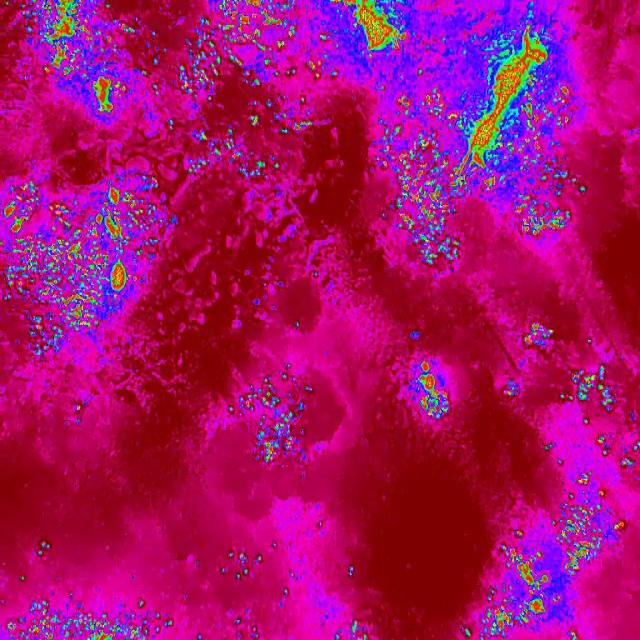fire: (159, 1, 586, 270), (0, 157, 170, 364), (470, 467, 629, 640), (11, 0, 142, 134), (492, 359, 640, 471), (211, 545, 358, 640), (226, 361, 324, 475), (0, 585, 175, 640), (402, 352, 459, 430), (523, 323, 563, 355)
